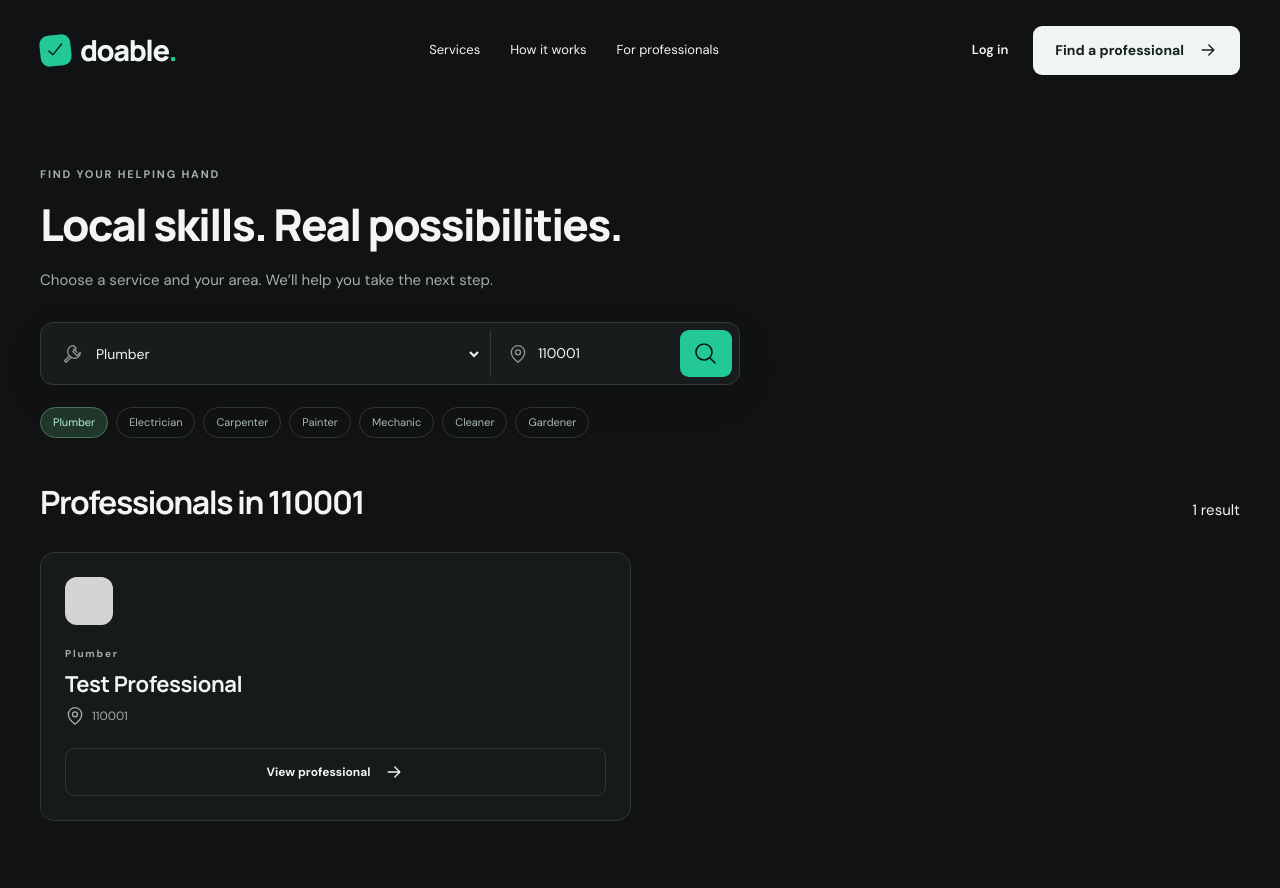
it: public profile selection survives normal customer login into the booking form
This screenshot has width=1280, height=888.
Check: the heading "Test Professional" is shown, box [65,671,242,697]
Click the button "View professional" at (336, 772), box [65,748,606,796]
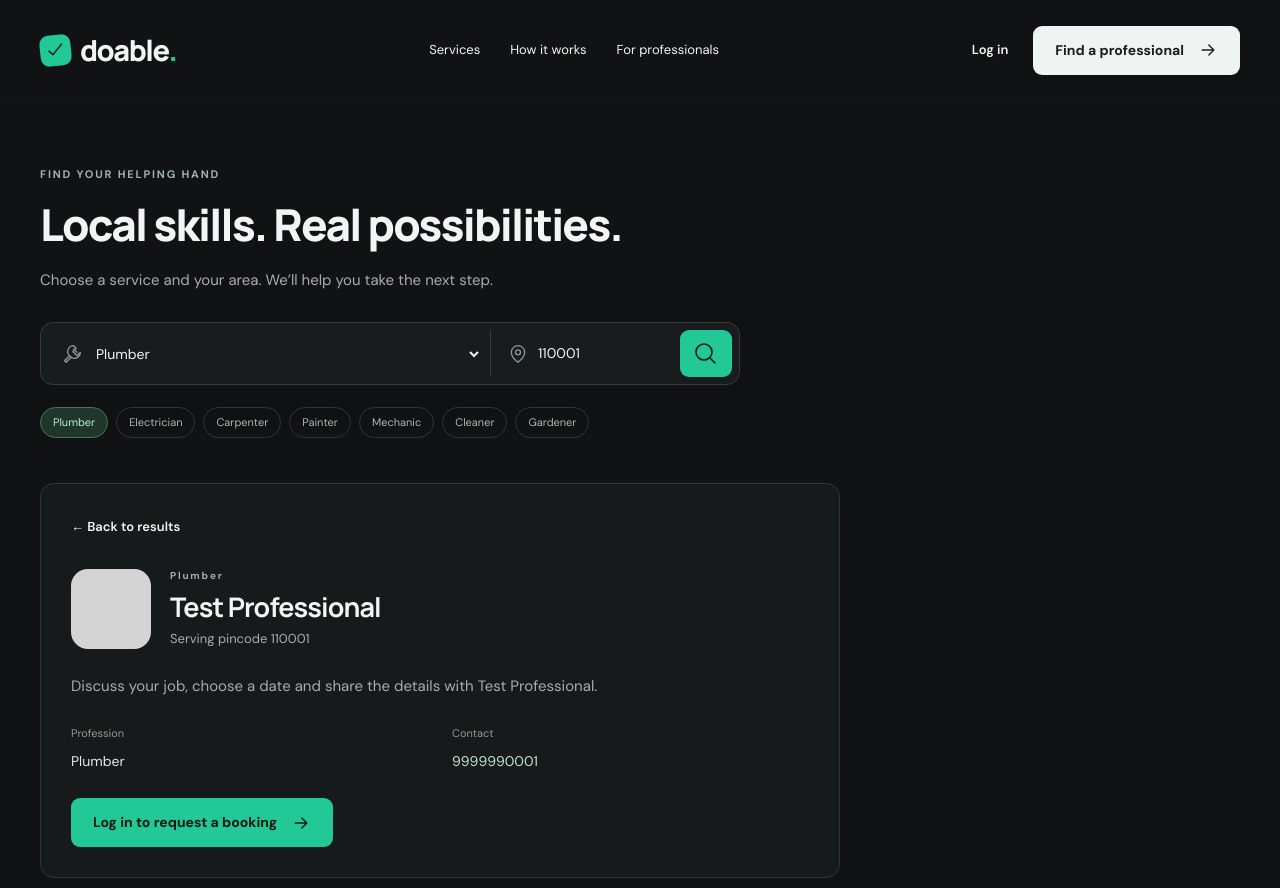
Click the link "Log in to request a booking" at (202, 823), box [71,798,333,847]
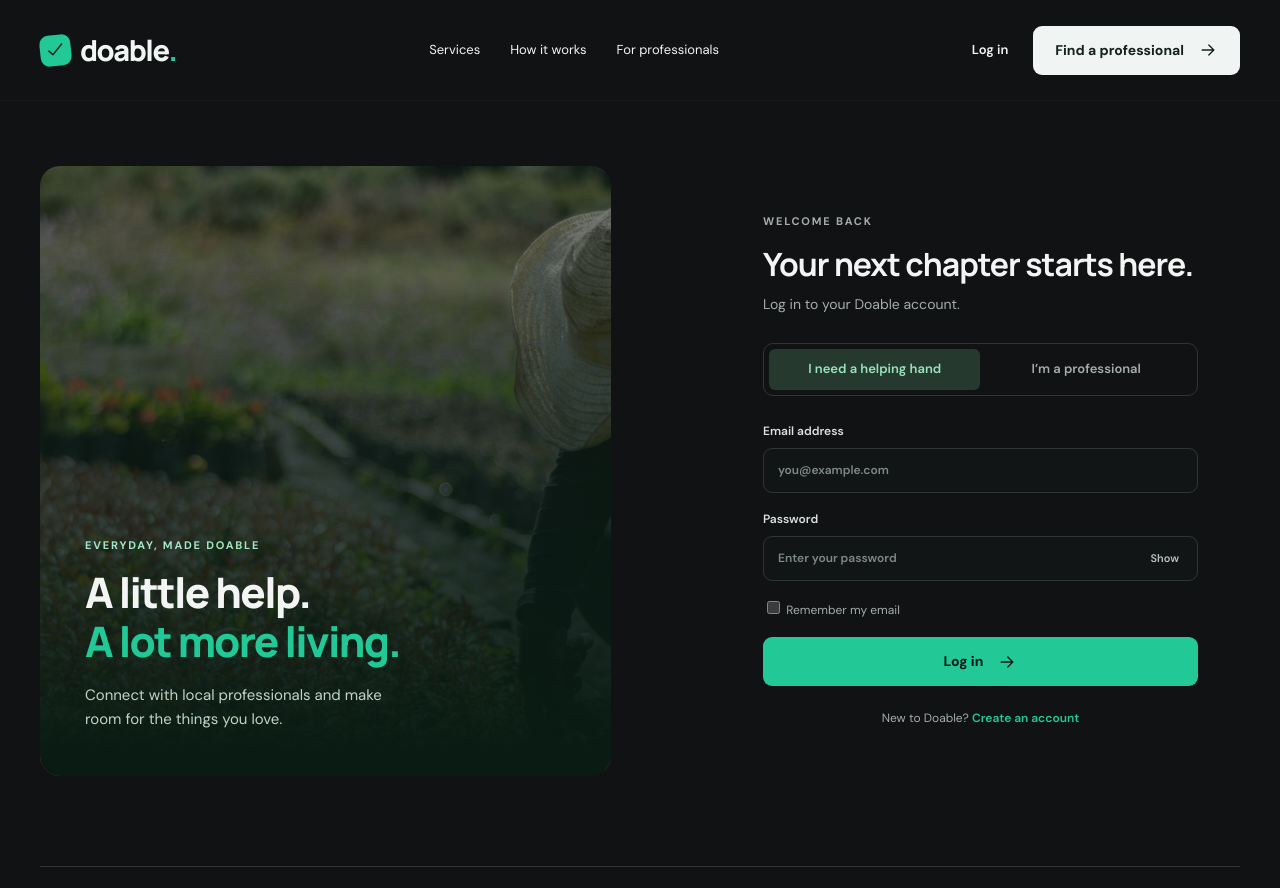
Type "test@example.test" into the field labelled "Email address" at (980, 470), box [763,448,1198,493]
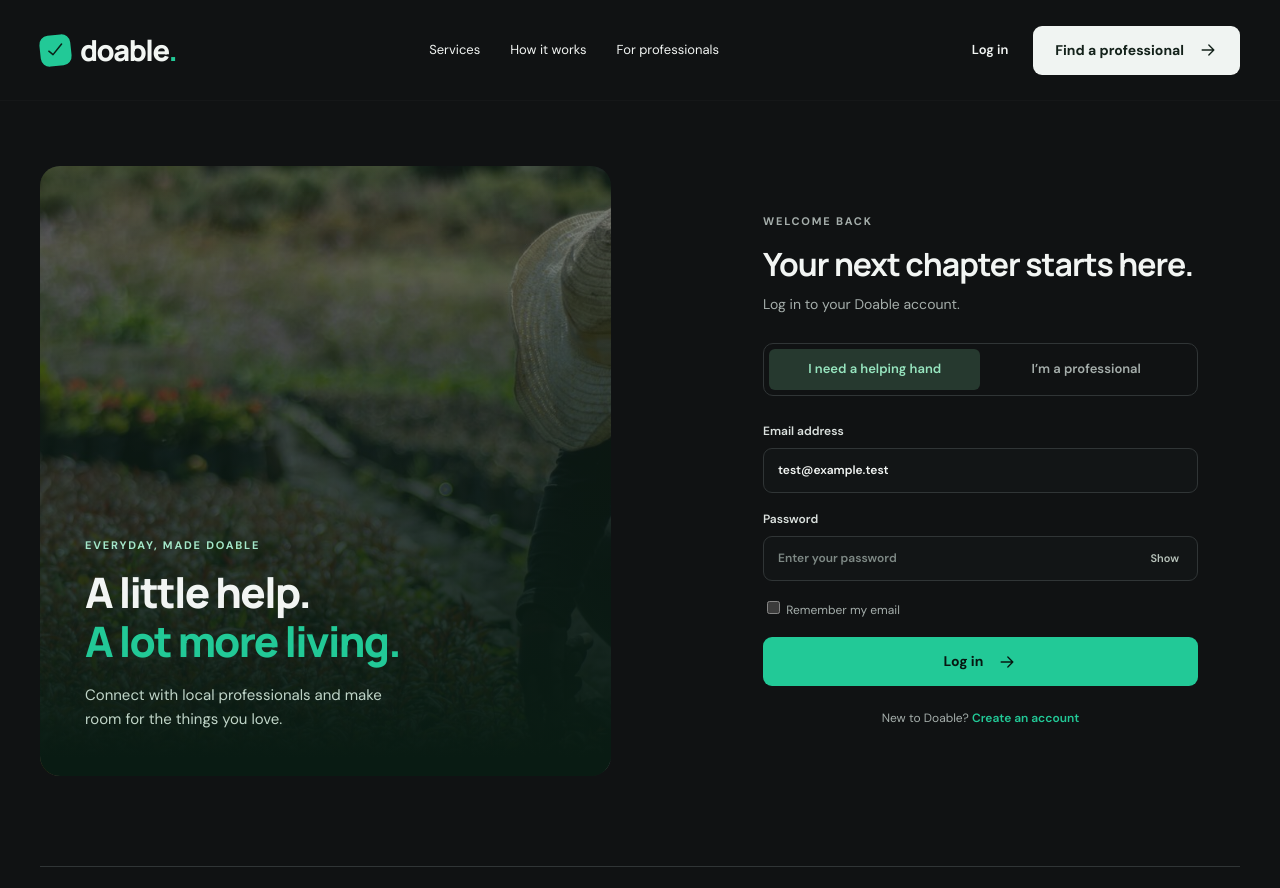
Type "example-password" into the password field labelled "Password" at (980, 559), box [763,536,1198,581]
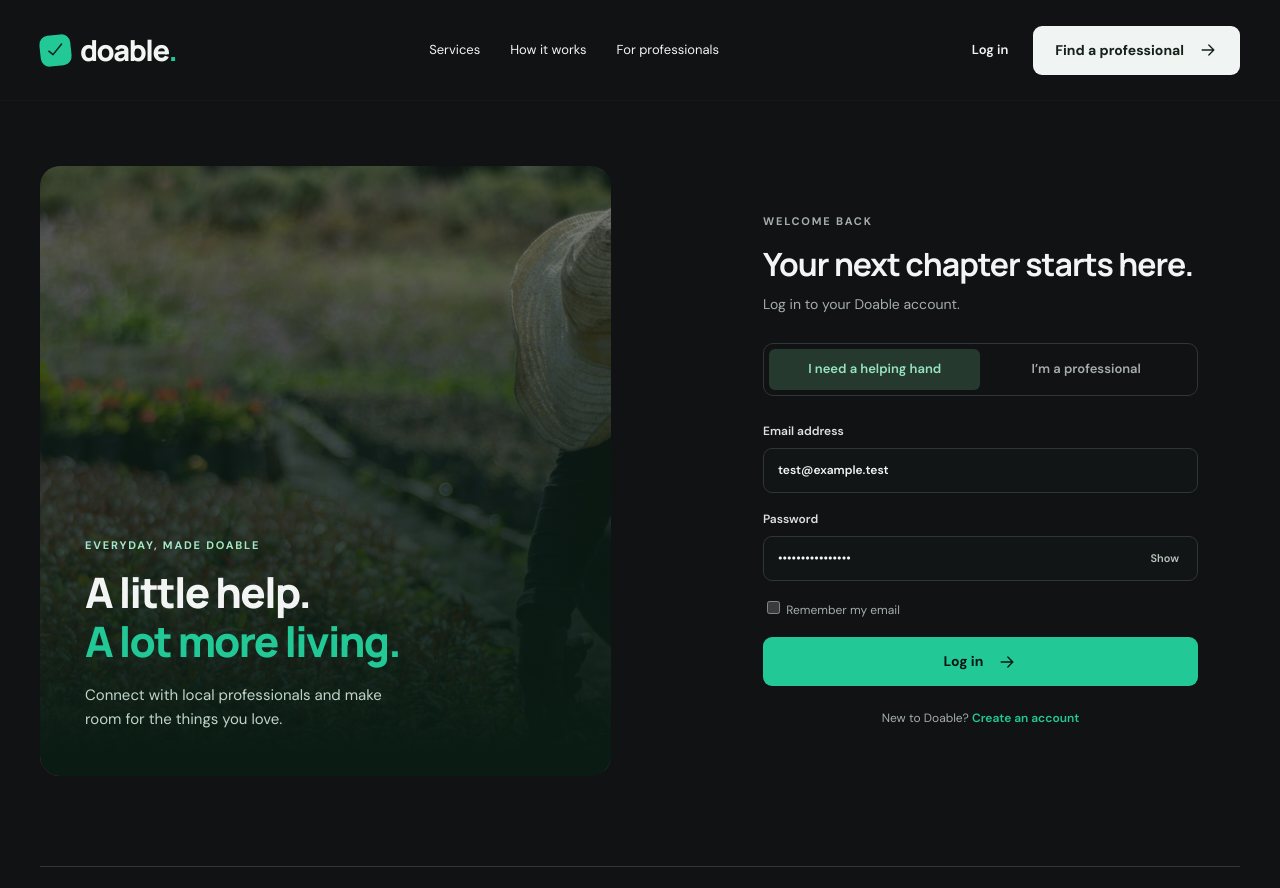
Click the button "Log in" at (980, 662), box [763,638,1198,686]
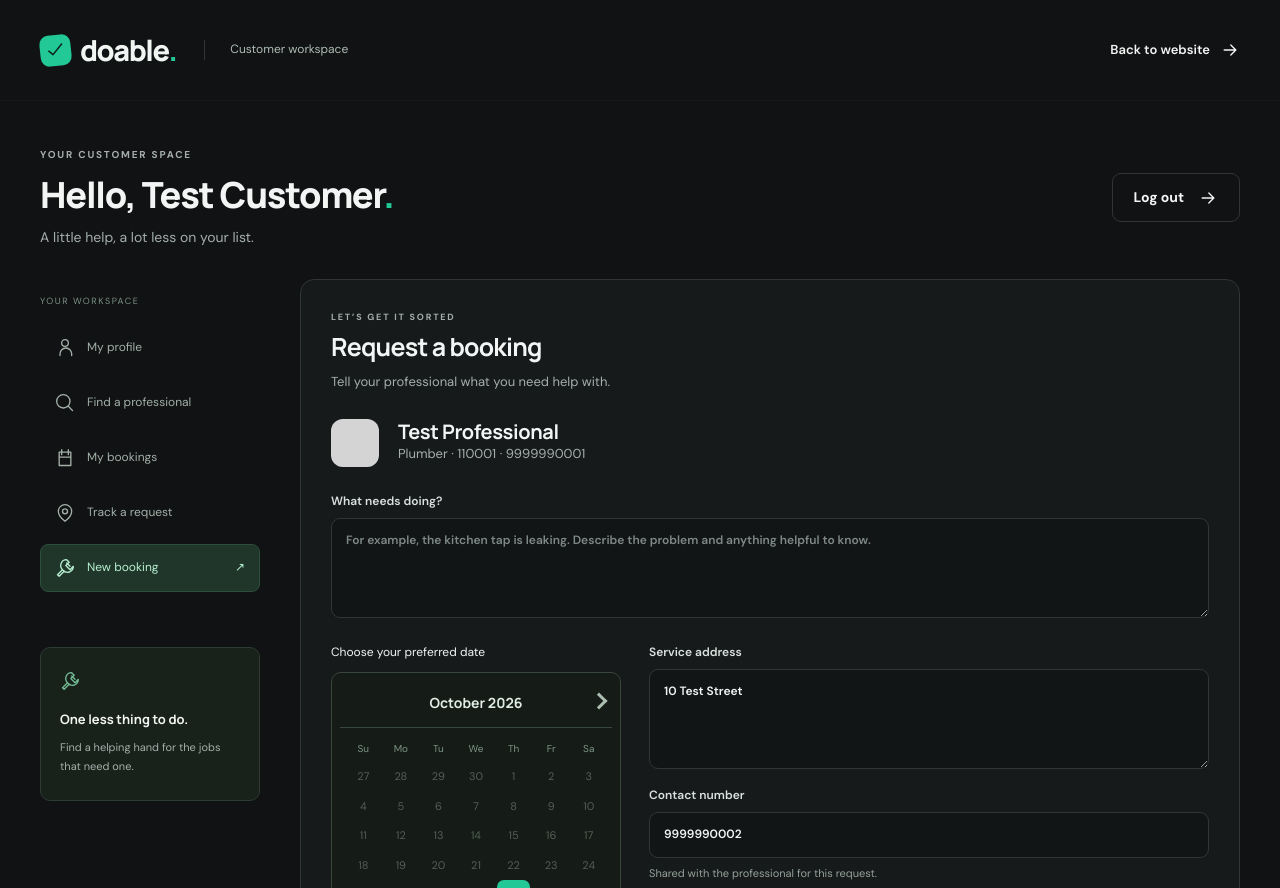
Check: the heading "Request a booking" is shown, box [331,329,542,364]
Check: the heading "Test Professional" is shown, box [398,420,585,444]
Check: the text box labelled "Service address" holds "10 Test Street", box [649,669,1209,769]
